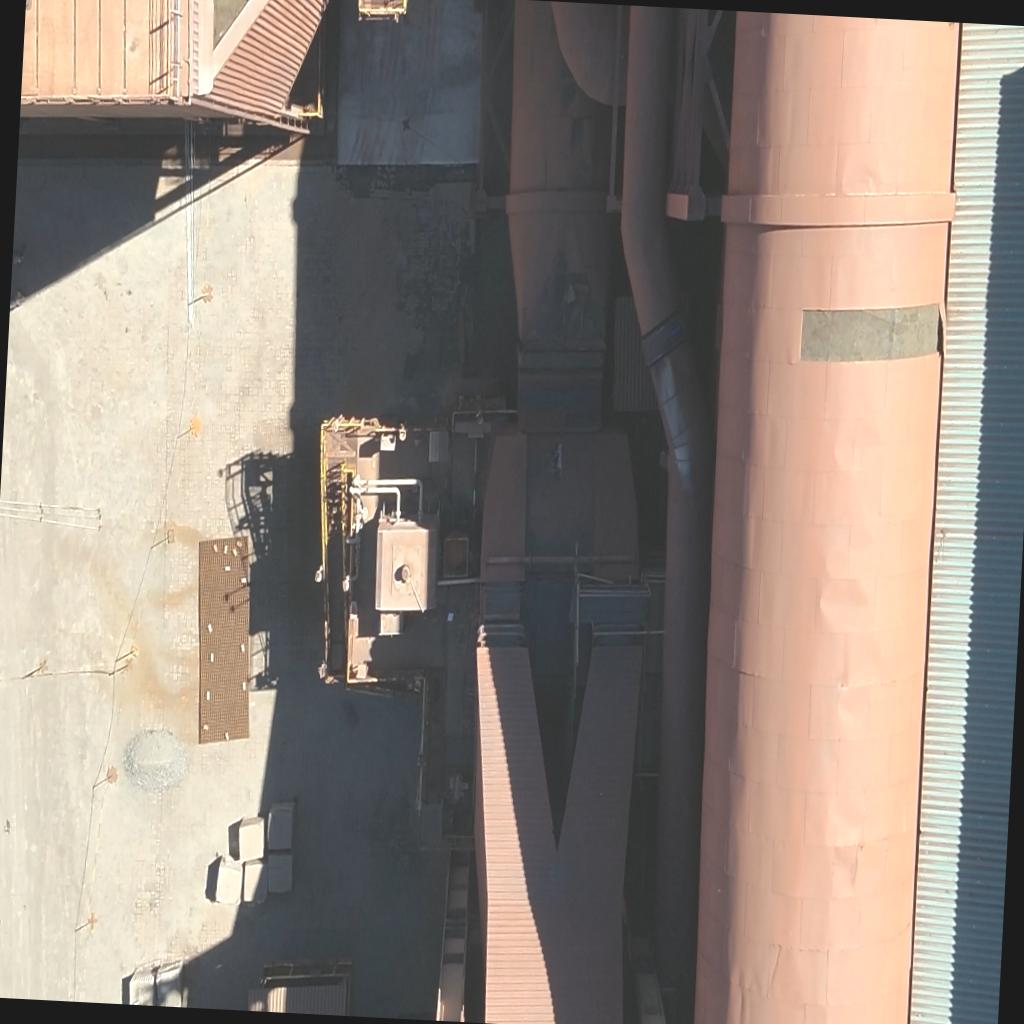Failures: (798, 288, 950, 370)
